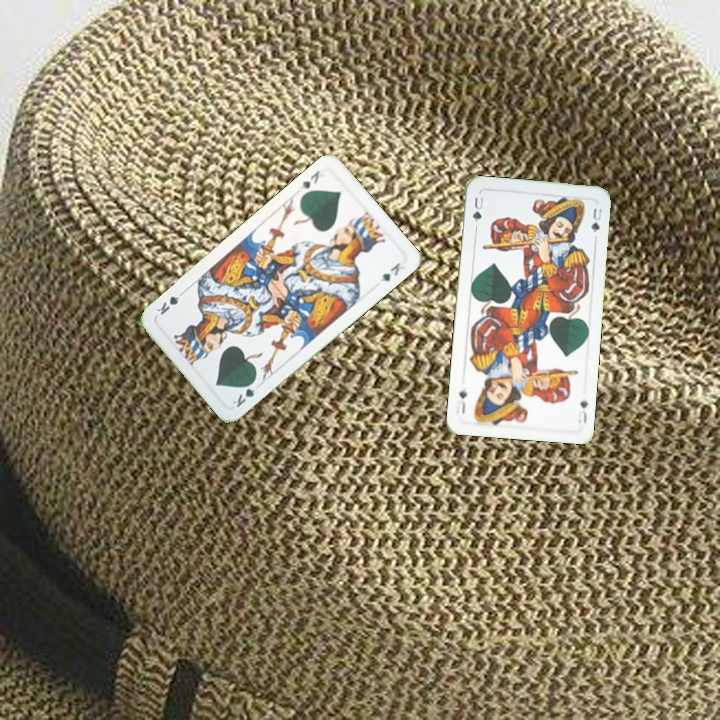GK: (228, 376, 259, 410), (296, 166, 322, 193)
GU: (468, 193, 486, 231), (574, 396, 590, 426)
